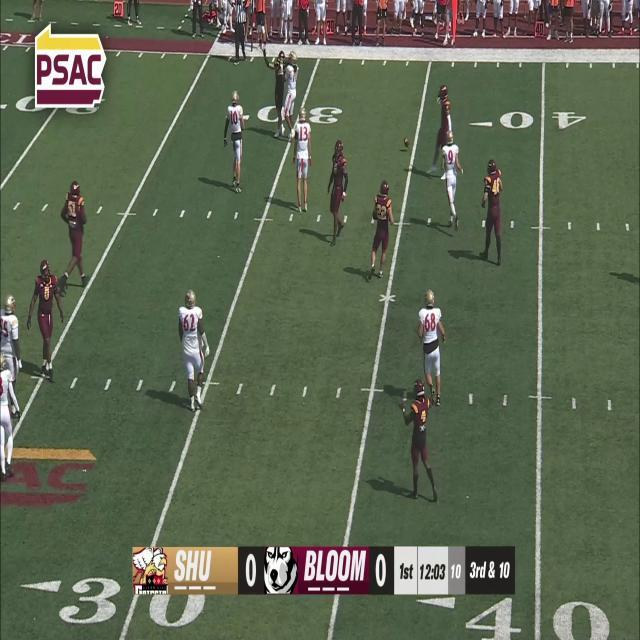football: (403, 135, 410, 149)
